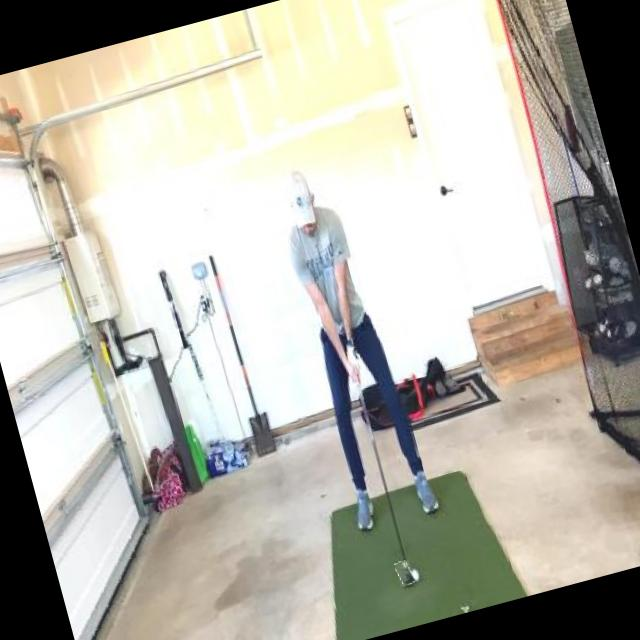club head: (394, 560, 414, 586)
